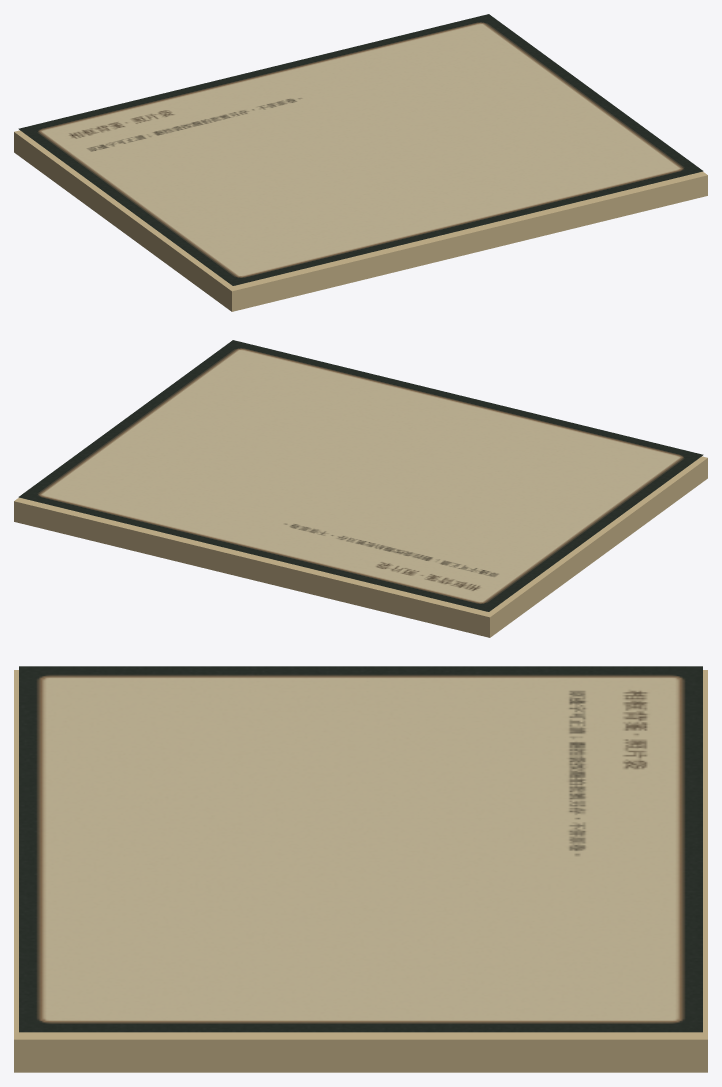
3 renders of one model, top to bottom at view 1: azimuth 30°, elevation 25°; view 2: azimuth 150°, elevation 25°; view 3: azimuth 270°, elevation 25°, orthographic. The views are drawn at different scales.
Parts seen in each view (by area): view 1: b-back; view 2: b-back; view 3: b-back.
Boxes of the visible parts, box(x1,y1,x2,y2) form: b-back: box(14, 14, 707, 311); b-back: box(14, 340, 707, 637); b-back: box(14, 666, 707, 1072).
Bounding box in the file's own units: 0.29 × 0.014 × 0.23.
Materials: 2 (1 with a texture image).
